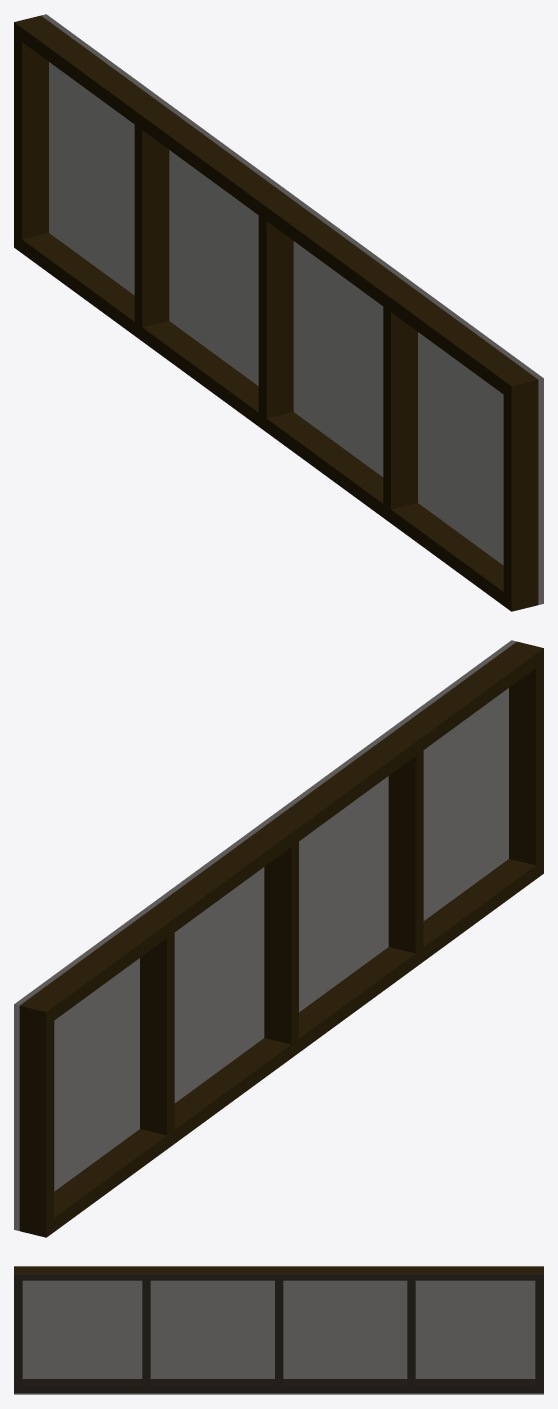
File: 4-SquareWindows(Final).fbx
3 views of the same model, one above another, from view 1: azimuth 30°, elevation 25°; view 2: azimuth 150°, elevation 25°; view 3: azimuth 270°, elevation 25° (orthographic). The views are drawn at different scales.
Visible parts, largest first — view 1: 4SCC frame; view 2: 4SCC frame; view 3: 4SCC frame.
Boxes of the visible parts, bbox=[...] form: 4SCC frame: bbox=[14, 14, 543, 611]; 4SCC frame: bbox=[14, 640, 543, 1237]; 4SCC frame: bbox=[14, 1266, 543, 1394].
Size of the model in its own units: 121 by 800 by 3200.
